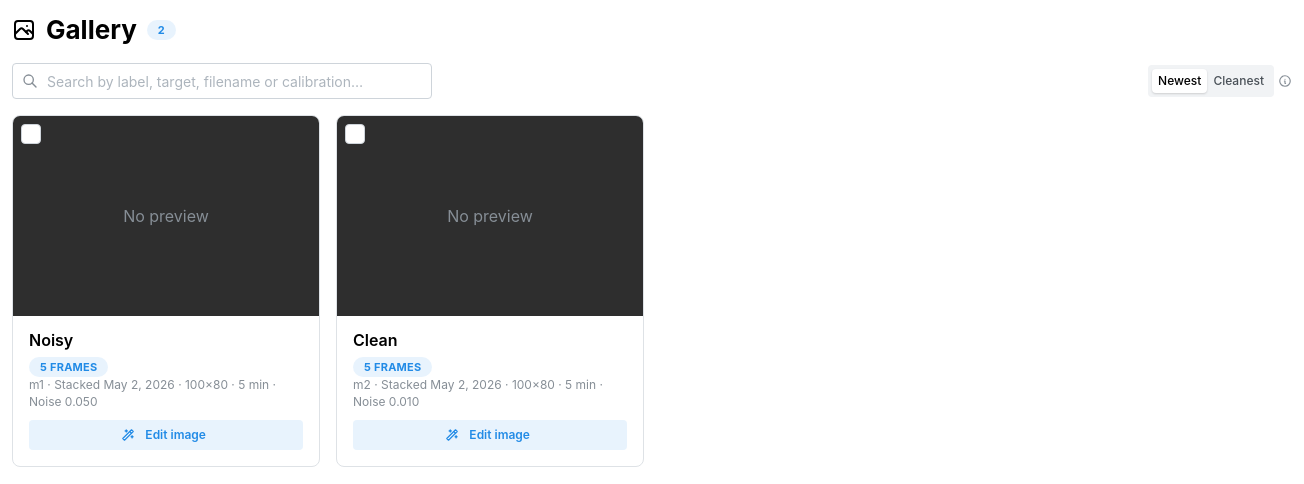
Test: Gallery batch apply › explains what 'Cleanest' means without changing the sort
Expected: the text "Cleanest" is shown, x1=1213 y1=73 x2=1264 y2=88
Step 1. Click the button named "What does this do?" → (1285, 81), box x1=1278 y1=74 x2=1292 y2=88
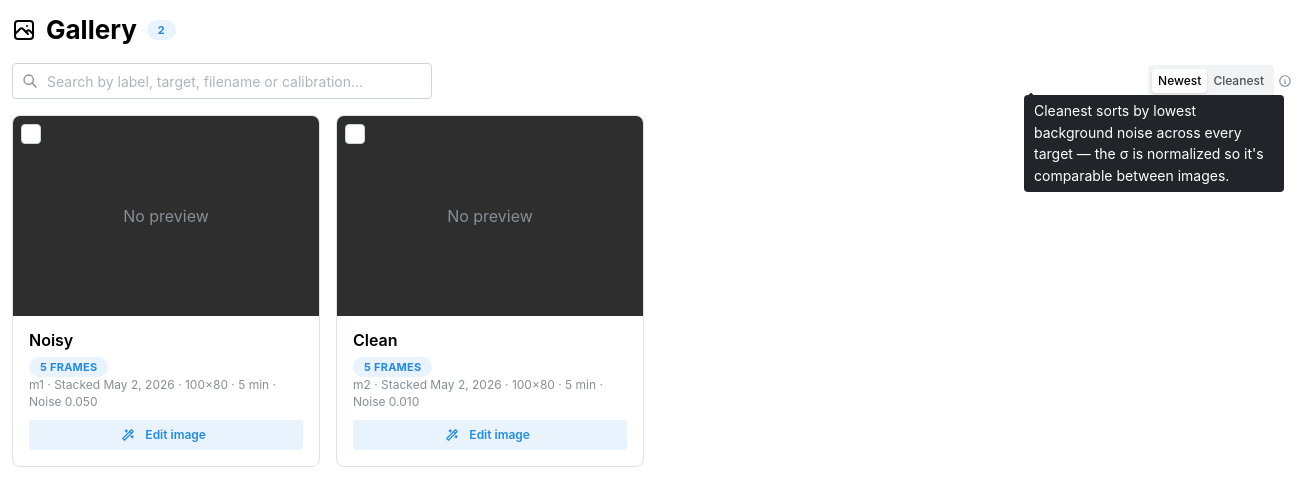
Expected: the tooltip "lowest background noise across every target" is shown, x1=1034 y1=102 x2=1264 y2=184
